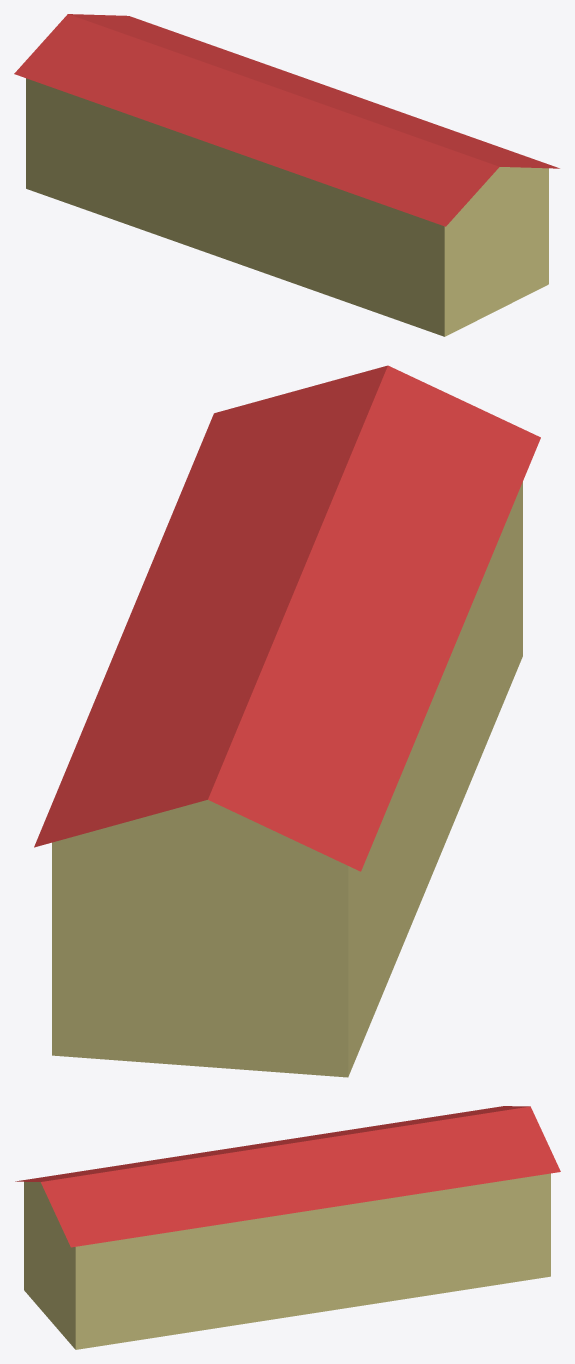
The picture shows the model from 3 angles, top to bottom: view 1: azimuth 30°, elevation 25°; view 2: azimuth 150°, elevation 25°; view 3: azimuth 270°, elevation 25°; orthographic projection. The views are drawn at different scales.
Bounding box in the file's own units: 42.63 × 69.63 × 19.25.
